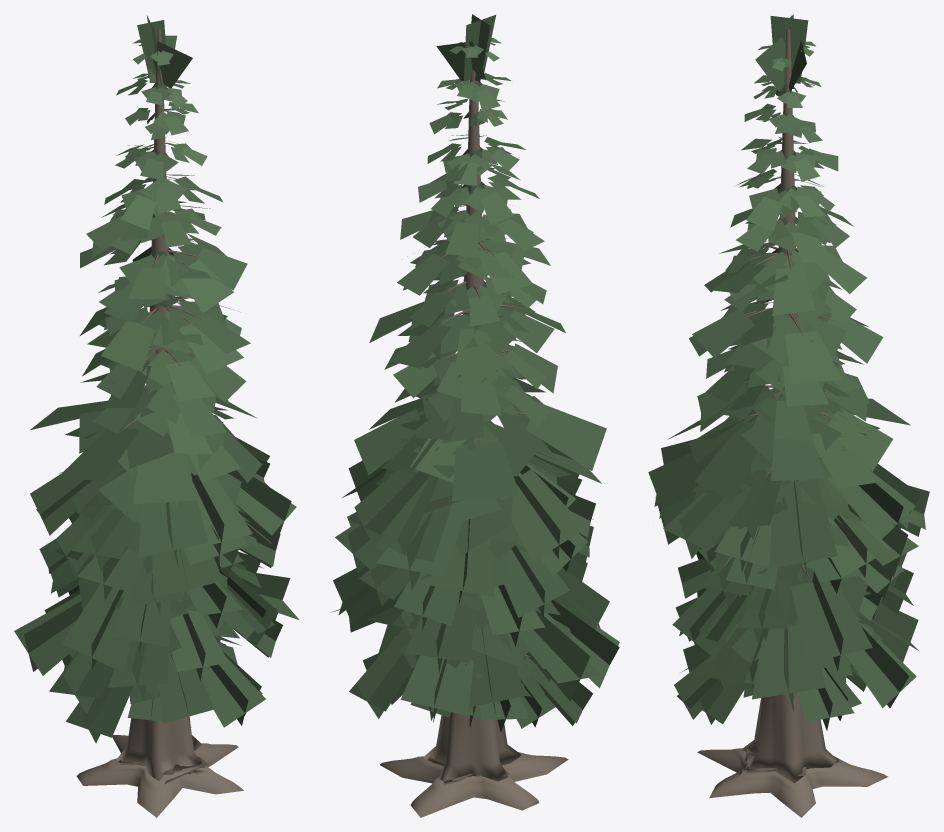
Rendered from giant_fir.glb.
The picture shows the model from 3 angles, left to right: view 1: azimuth 30°, elevation 25°; view 2: azimuth 150°, elevation 25°; view 3: azimuth 270°, elevation 25°; orthographic projection.
Parts seen in each view (by area): view 1: giant_fir; view 2: giant_fir; view 3: giant_fir.
Boxes of the visible parts, x1=… form: giant_fir: x1=14, y1=15, x2=299, y2=817; giant_fir: x1=331, y1=14, x2=619, y2=817; giant_fir: x1=648, y1=14, x2=929, y2=817.
Size of the model in its own units: 16.1 by 45.61 by 15.41.
